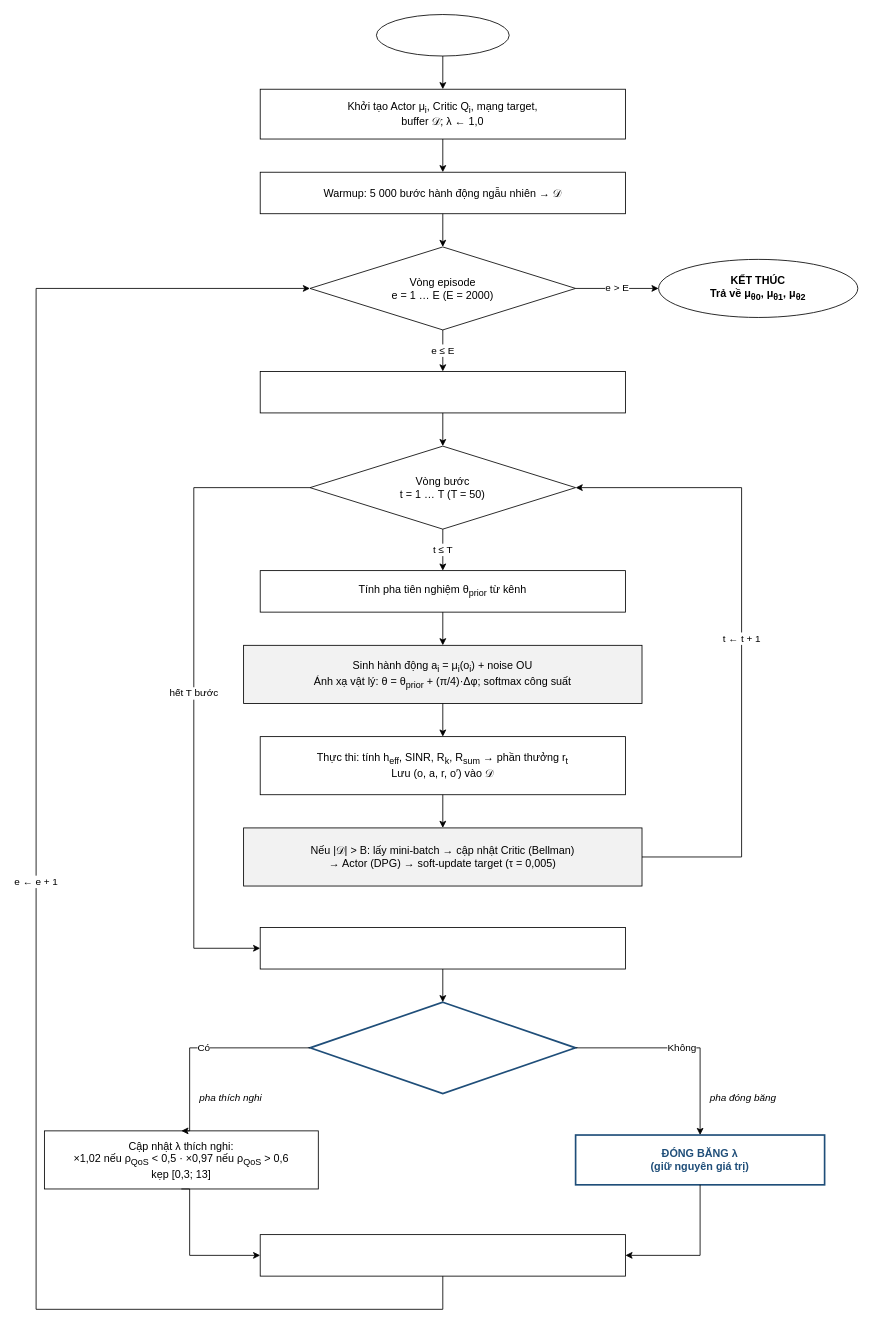
This 872x1330 diagram has some shape labels left out. The centre of each missing label's shape, as x and y in pixels:
BẮT ĐẦU: (x=442, y=35)
e < 0,55·E ? (0,55·E = 1100): (x=442, y=1047)
Giảm σ noise (tuyến tính, sàn tại ep ≈ 900): (x=442, y=1255)
Lấy mẫu kênh mới h d,k , G, h r,k ; reset trạng thái: (x=442, y=392)
Tính ρ QoS của episode: (x=442, y=948)
